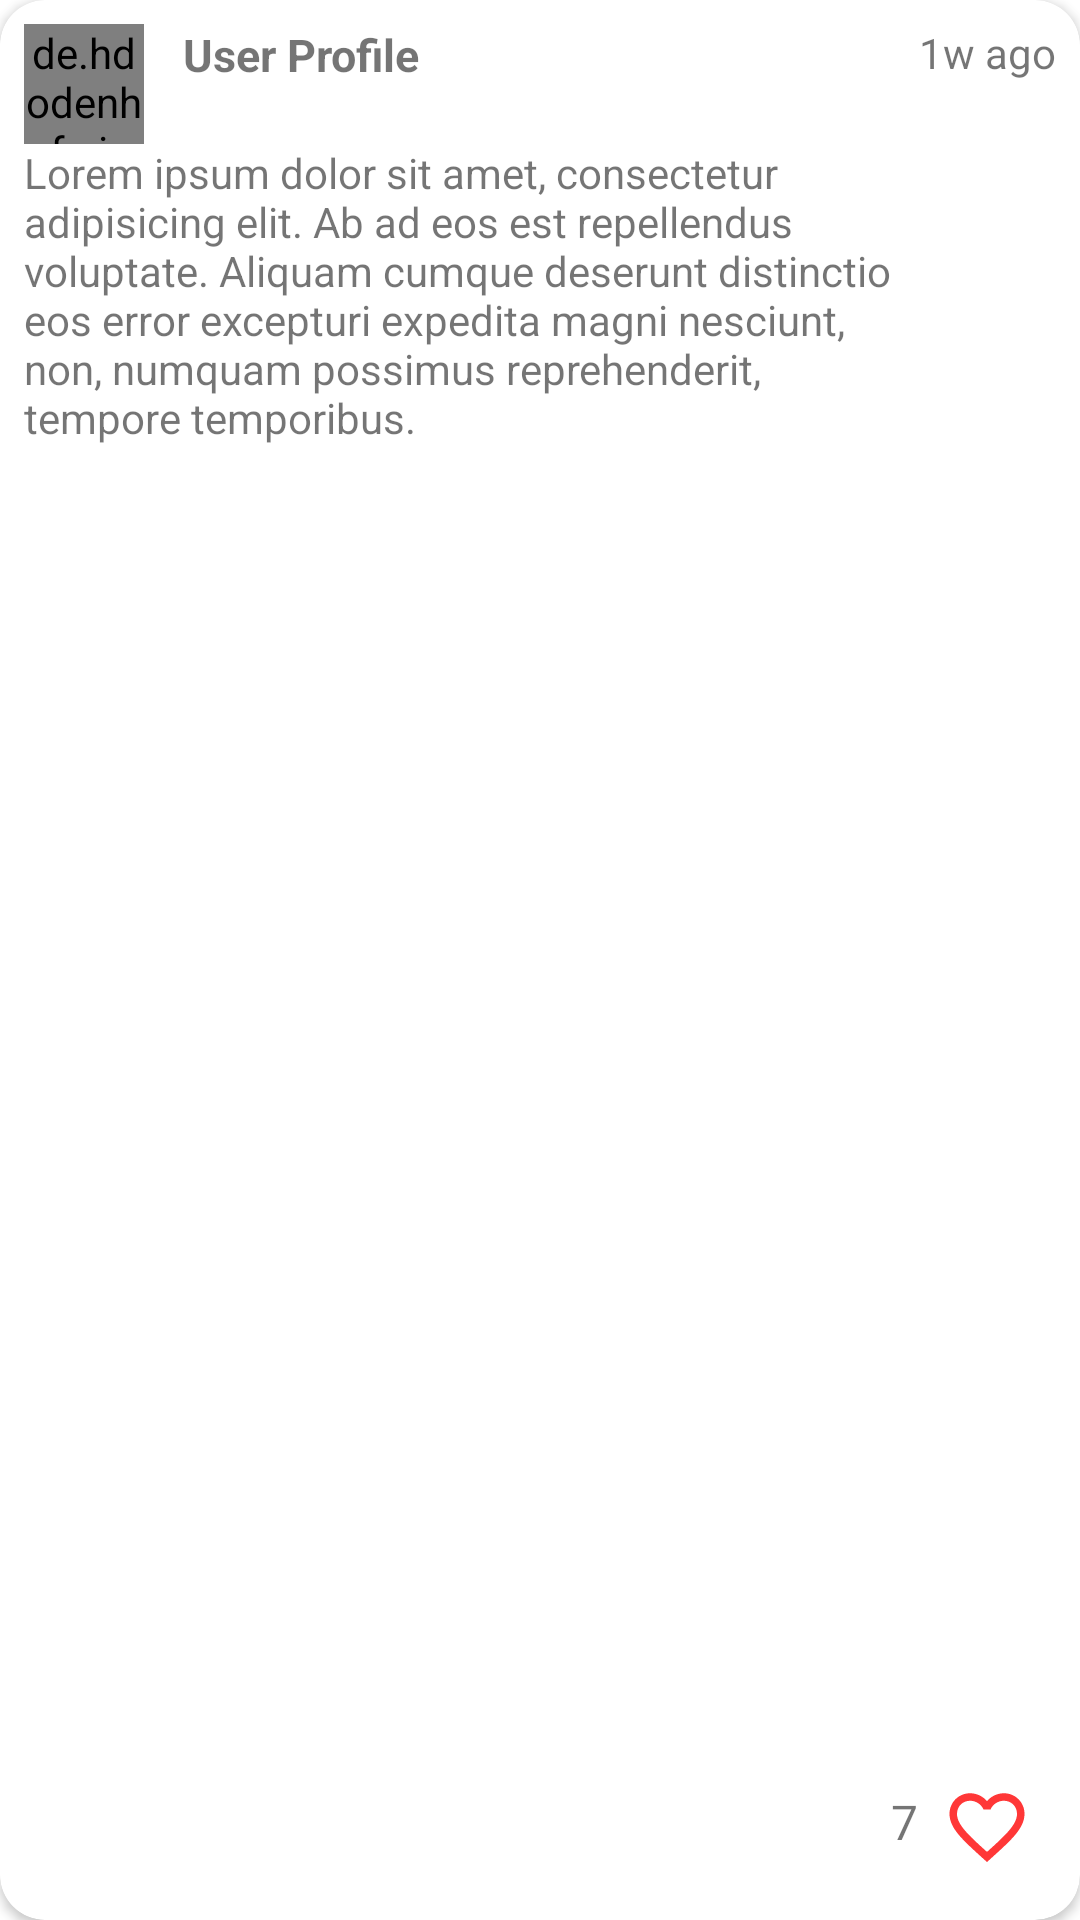

Locate icon controls on the screen. Image size 1080px x 1920px, boxes as (x1, y1, x2, y2).
favorite border: (949, 1793, 1025, 1862)
